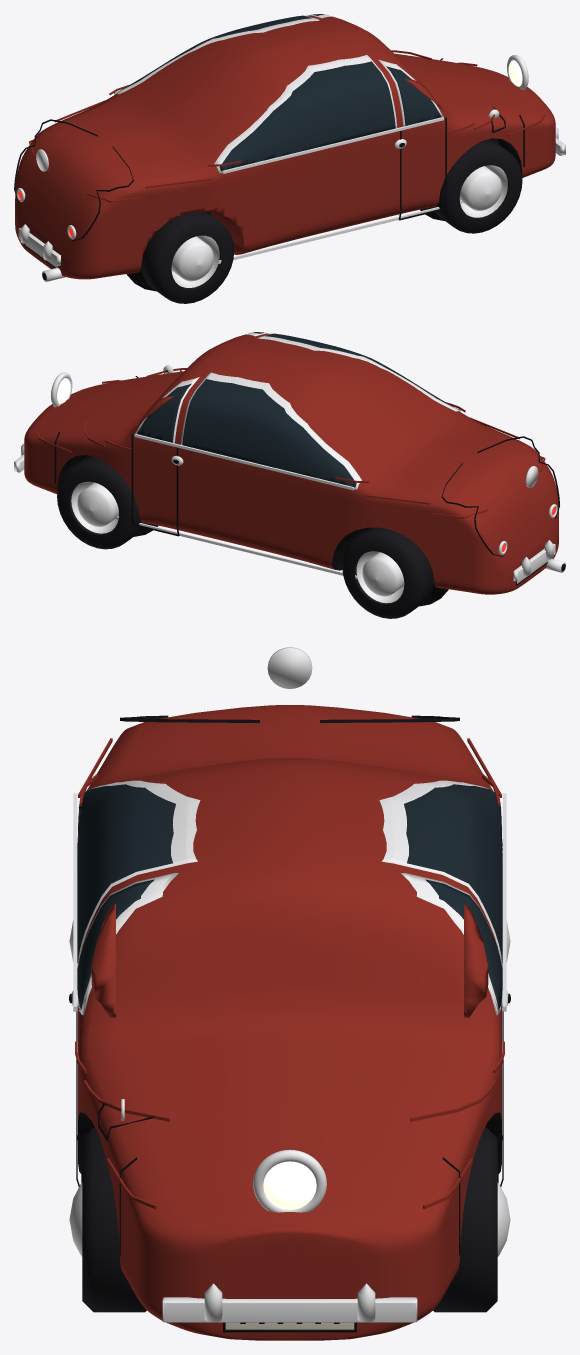
File: t1_volksbeagle.glb
3 renders of one model, top to bottom at view 1: azimuth 30°, elevation 25°; view 2: azimuth 150°, elevation 25°; view 3: azimuth 270°, elevation 25°, orthographic. The views are drawn at different scales.
Visible parts, largest first — view 1: paint_00, glass_01, tyre_02, tyre_04, chrome_06, chrome_15, chrome_17, glass_00, chrome_29, chrome_27, chrome_23, chrome_25 (+2 smaller); view 2: paint_00, glass_01, tyre_01, tyre_03, chrome_06, chrome_14, chrome_16, glass_00, chrome_28, chrome_26, trim_04, chrome_22 (+3 smaller); view 3: paint_00, glass_01, tyre_03, tyre_04, chrome_02, chrome_06, glass_00, chrome_05, lamp_00, paint_14, paint_13, chrome_12 (+5 smaller).
Boxes of the visible parts, box(x1,y1,x2,y2) form: paint_00: box(15, 15, 555, 279); glass_01: box(118, 15, 395, 171); tyre_02: box(141, 211, 234, 303); tyre_04: box(432, 139, 522, 233); chrome_06: box(115, 15, 397, 173); chrome_15: box(171, 236, 213, 281); chrome_17: box(459, 166, 501, 210); glass_00: box(311, 14, 441, 125); chrome_29: box(222, 117, 443, 173); chrome_27: box(171, 200, 463, 271); chrome_23: box(172, 235, 219, 287); chrome_25: box(460, 165, 507, 217); paint_00: box(24, 333, 558, 594); glass_01: box(182, 333, 456, 487); tyre_01: box(342, 527, 434, 618); tyre_03: box(57, 456, 145, 549); chrome_06: box(181, 333, 459, 489); chrome_14: box(362, 552, 404, 596); chrome_16: box(77, 482, 118, 526); glass_00: box(137, 332, 265, 442); chrome_28: box(134, 434, 353, 490); chrome_26: box(115, 516, 404, 586); trim_04: box(57, 455, 365, 570); chrome_22: box(356, 551, 403, 603); paint_00: box(78, 705, 501, 1340); glass_01: box(77, 784, 502, 962); tyre_03: box(433, 1127, 497, 1312); tyre_04: box(82, 1127, 146, 1312); chrome_02: box(162, 1297, 417, 1322); chrome_06: box(77, 780, 502, 968); glass_00: box(77, 879, 502, 1009); chrome_05: box(77, 873, 502, 1015); lamp_00: box(263, 1161, 316, 1209); paint_14: box(91, 903, 115, 1017); paint_13: box(464, 903, 488, 1017); chrome_12: box(253, 1149, 326, 1212).
Bounding box in the file's own units: 10.47 × 3.8 × 3.96.
